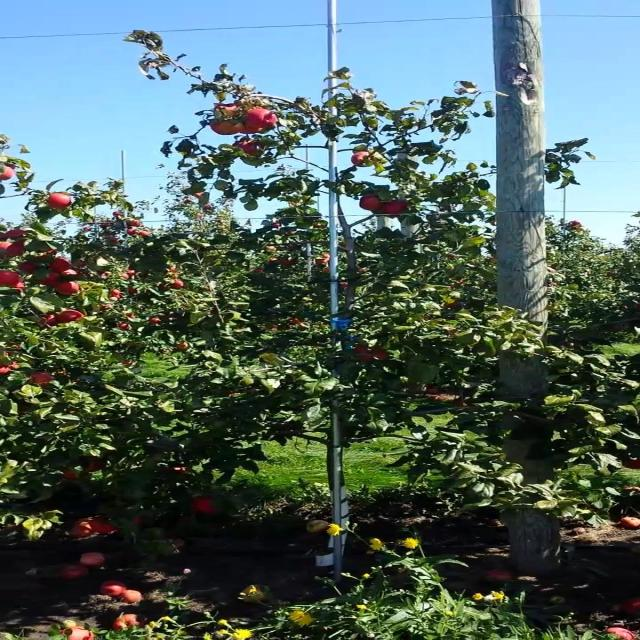apple: (248, 108, 277, 127), (383, 200, 409, 216), (191, 500, 220, 514), (92, 520, 119, 535), (362, 196, 384, 212), (56, 312, 85, 323), (212, 124, 236, 136), (241, 124, 265, 136), (241, 144, 265, 156), (6, 244, 28, 257), (49, 196, 71, 208), (56, 284, 78, 296), (49, 260, 71, 272), (220, 104, 242, 116), (35, 248, 57, 260), (84, 460, 105, 472), (35, 372, 55, 384), (42, 272, 60, 285), (6, 272, 21, 287), (355, 152, 370, 164), (369, 352, 389, 360), (6, 232, 27, 239), (170, 468, 190, 475), (362, 356, 382, 363), (20, 264, 37, 272), (625, 460, 638, 470), (49, 316, 60, 327), (63, 472, 78, 480), (70, 260, 85, 268), (170, 280, 185, 288), (6, 364, 21, 372), (426, 388, 443, 395), (6, 364, 20, 372), (6, 168, 14, 179), (433, 396, 455, 400), (63, 272, 80, 277), (355, 348, 368, 353)
